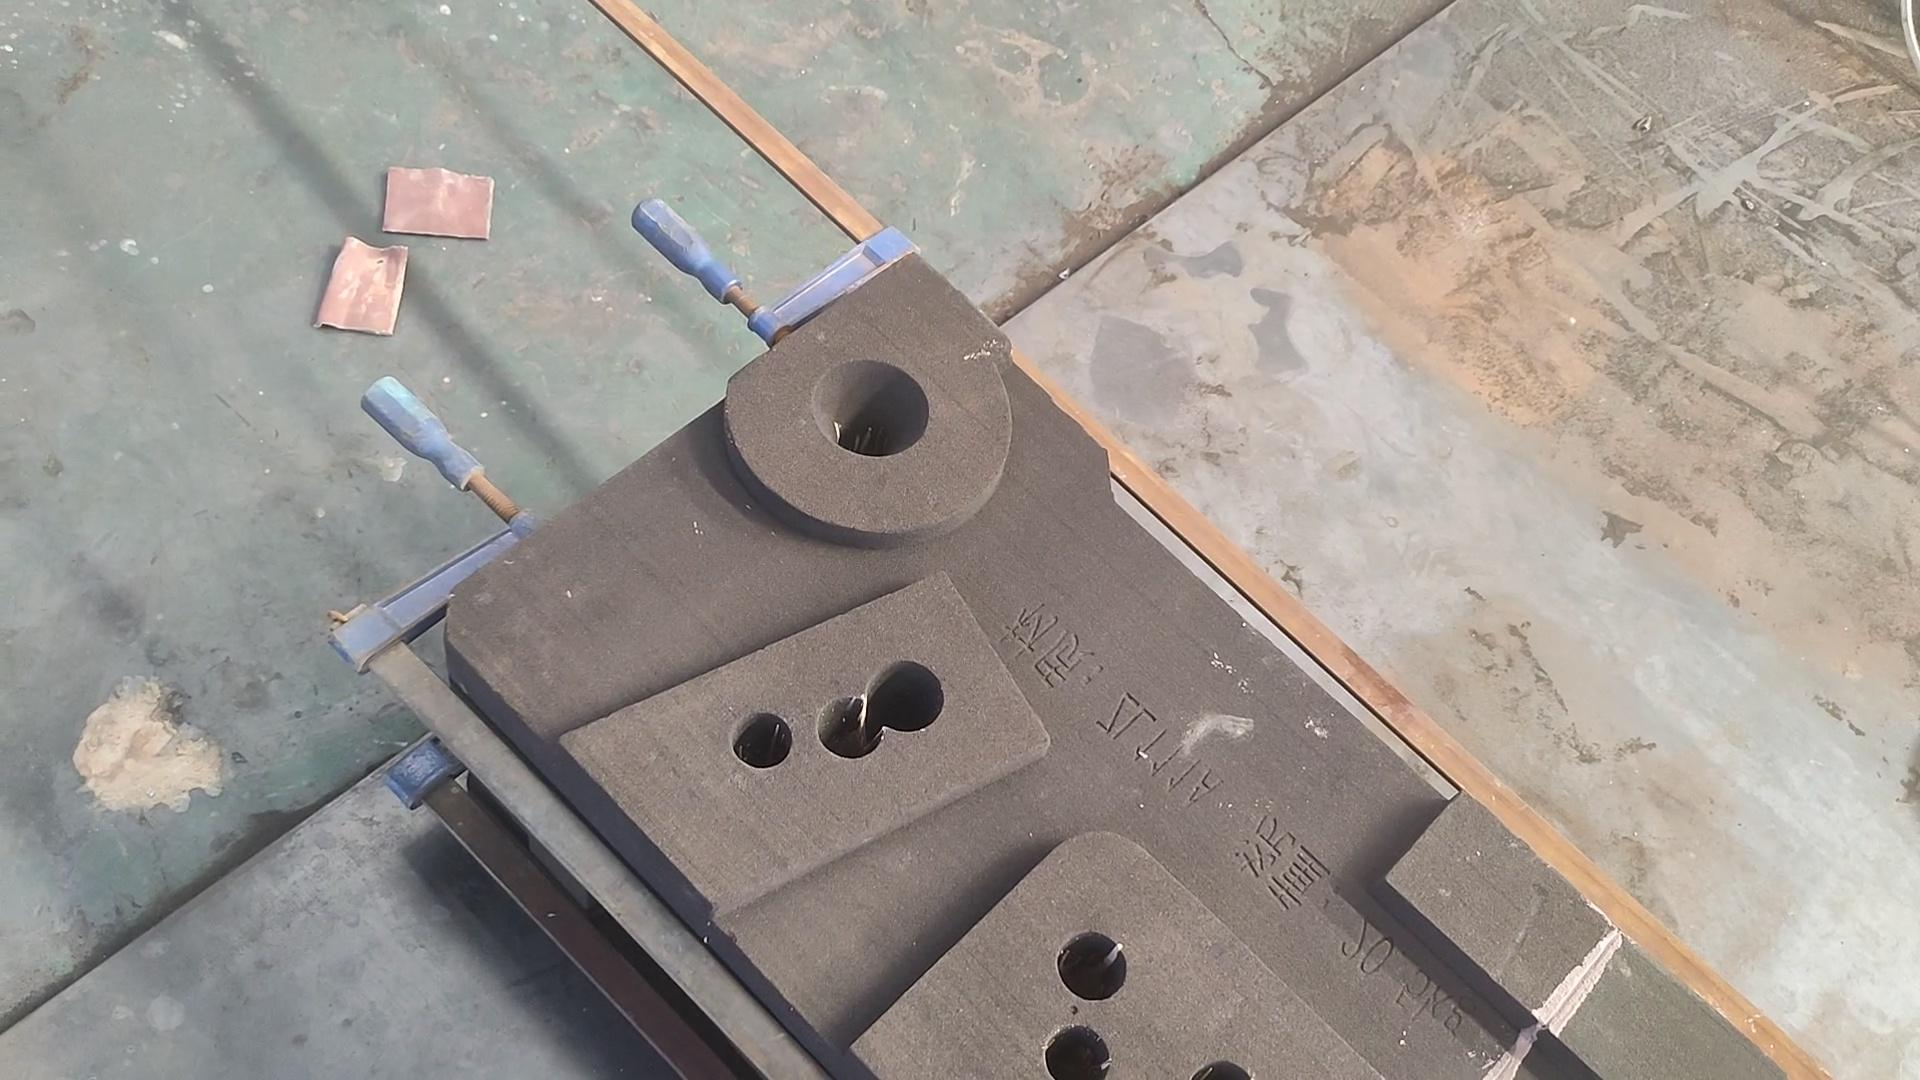pouring hole: (814, 357, 931, 456)
